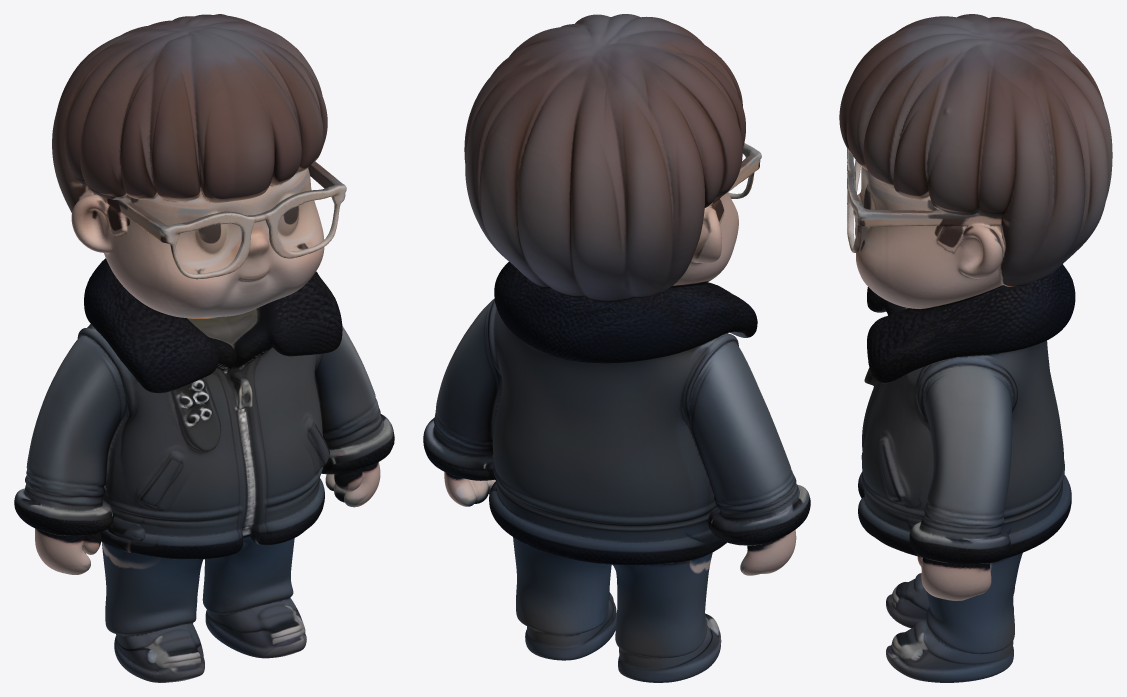
File: boss-character.glb
3 views of the same model, side by side, from view 1: azimuth 30°, elevation 25°; view 2: azimuth 150°, elevation 25°; view 3: azimuth 270°, elevation 25° (orthographic). The views are drawn at different scales.
Visible parts, largest first — view 1: tripo_node_99316f22-240d-45fa-b539-55e152d7a624; view 2: tripo_node_99316f22-240d-45fa-b539-55e152d7a624; view 3: tripo_node_99316f22-240d-45fa-b539-55e152d7a624.
Part boxes in pixels (x1,y1,x2,y2): tripo_node_99316f22-240d-45fa-b539-55e152d7a624: (14,14,394,682); tripo_node_99316f22-240d-45fa-b539-55e152d7a624: (423,14,810,682); tripo_node_99316f22-240d-45fa-b539-55e152d7a624: (839,14,1112,682).
Bounding box in the file's own units: 0.6191 × 1 × 0.4037.
Materials: 1 (1 with a texture image).
